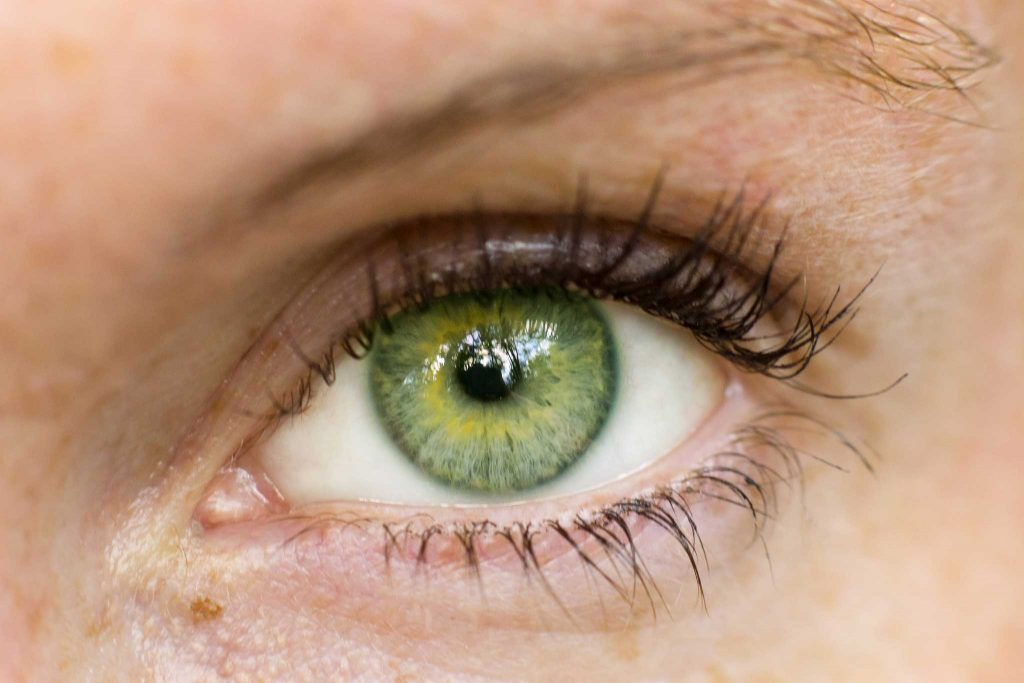iris: (367, 272, 617, 495)
pupil: (453, 337, 524, 405)
